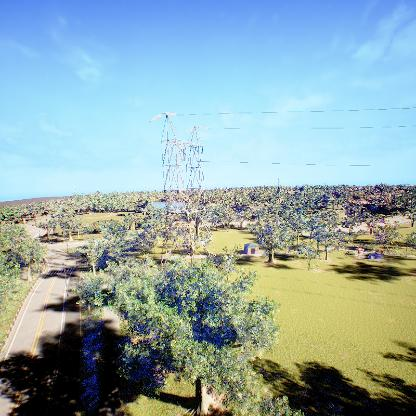tower: (149, 109, 212, 272)
